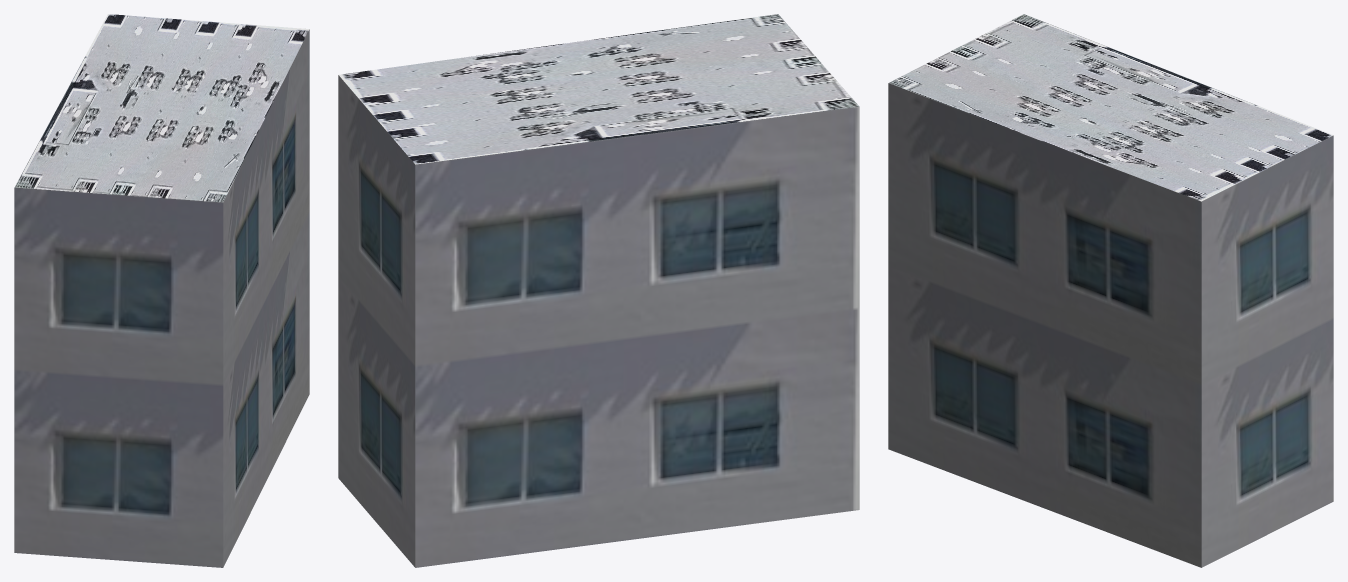
File: ResTex__2866.fbx
3 views of the same model, side by side, from view 1: azimuth 30°, elevation 25°; view 2: azimuth 150°, elevation 25°; view 3: azimuth 270°, elevation 25° (orthographic). The views are drawn at different scales.
Visible parts, largest first — view 1: CityEngineMaterial_10_m, CityEngineMaterial_4_m; view 2: CityEngineMaterial_10_m, CityEngineMaterial_4_m; view 3: CityEngineMaterial_10_m, CityEngineMaterial_4_m.
Part boxes in pixels (left/top/right/bottom): CityEngineMaterial_10_m: left=14, top=29, right=309, bottom=567; CityEngineMaterial_4_m: left=14, top=14, right=309, bottom=202; CityEngineMaterial_10_m: left=338, top=75, right=859, bottom=567; CityEngineMaterial_4_m: left=339, top=14, right=859, bottom=164; CityEngineMaterial_10_m: left=888, top=83, right=1333, bottom=567; CityEngineMaterial_4_m: left=889, top=14, right=1332, bottom=201.
Bounding box in the file's own units: 6.59 × 6 × 6.61.
Materials: 2 (2 with a texture image).
